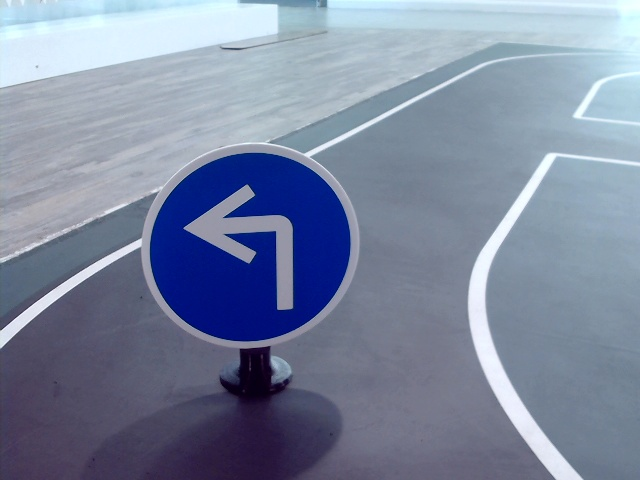turn_left: (188, 182, 303, 311)
